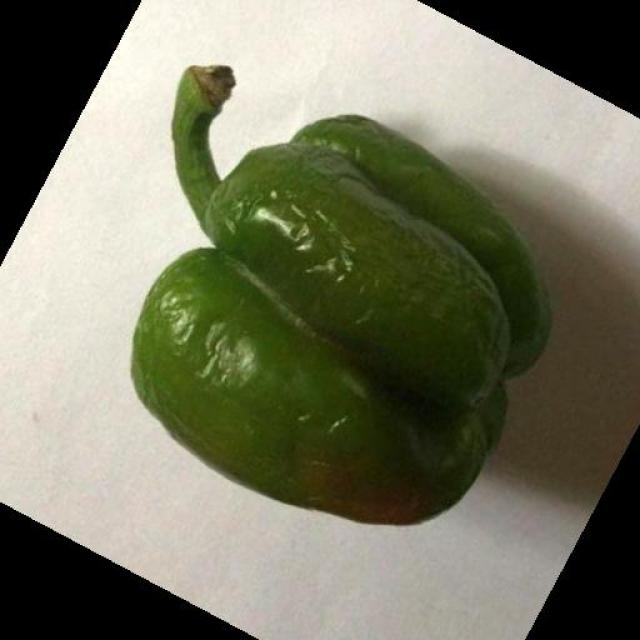Stale_Capsicum: (134, 86, 539, 548)
